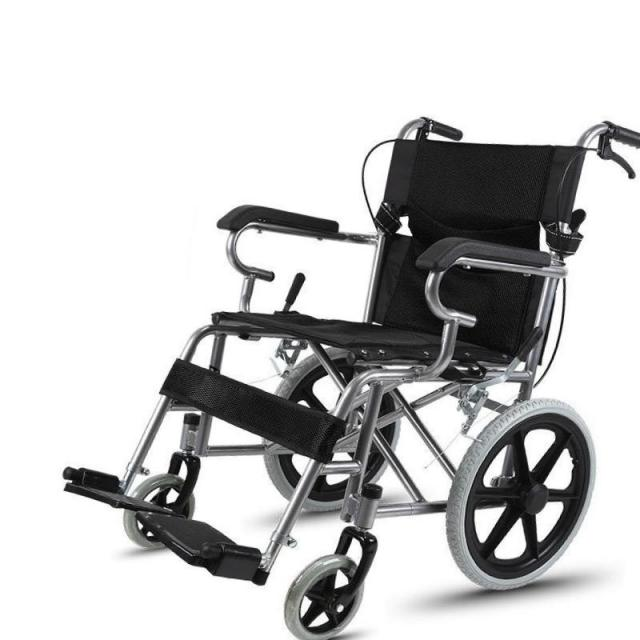wheelchair: (2, 92, 640, 640)
